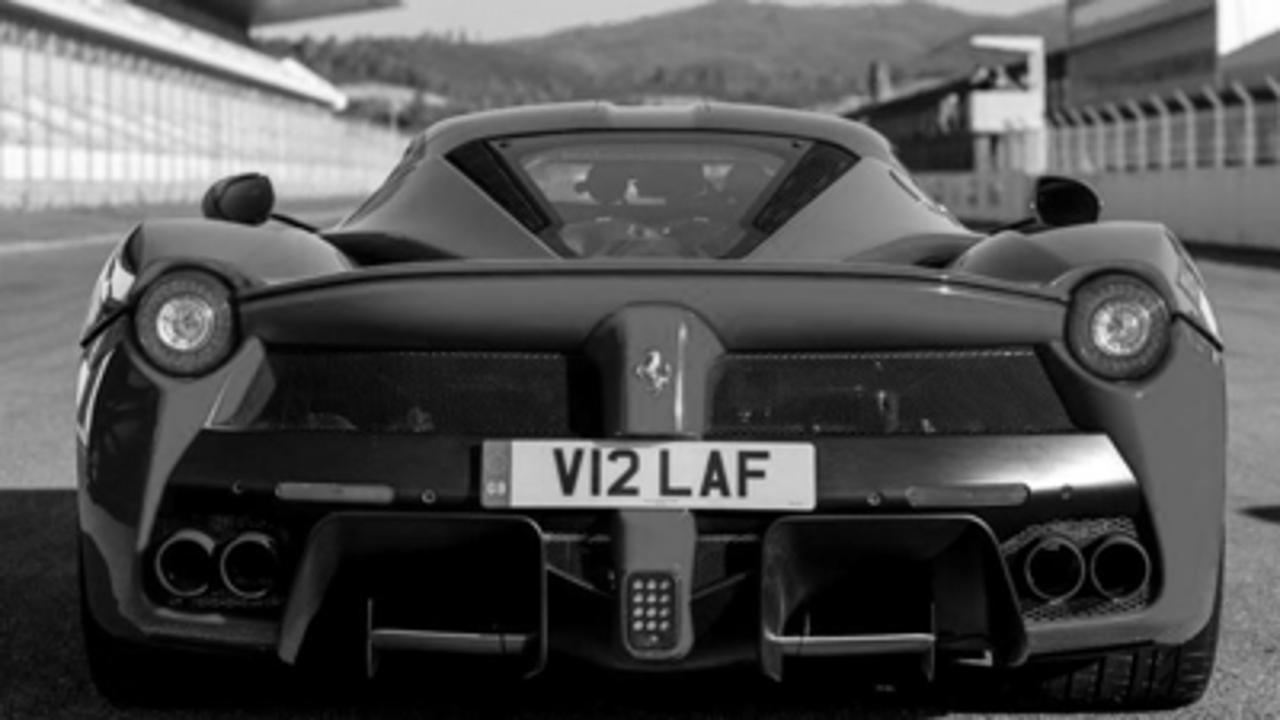license: (464, 427, 826, 519)
